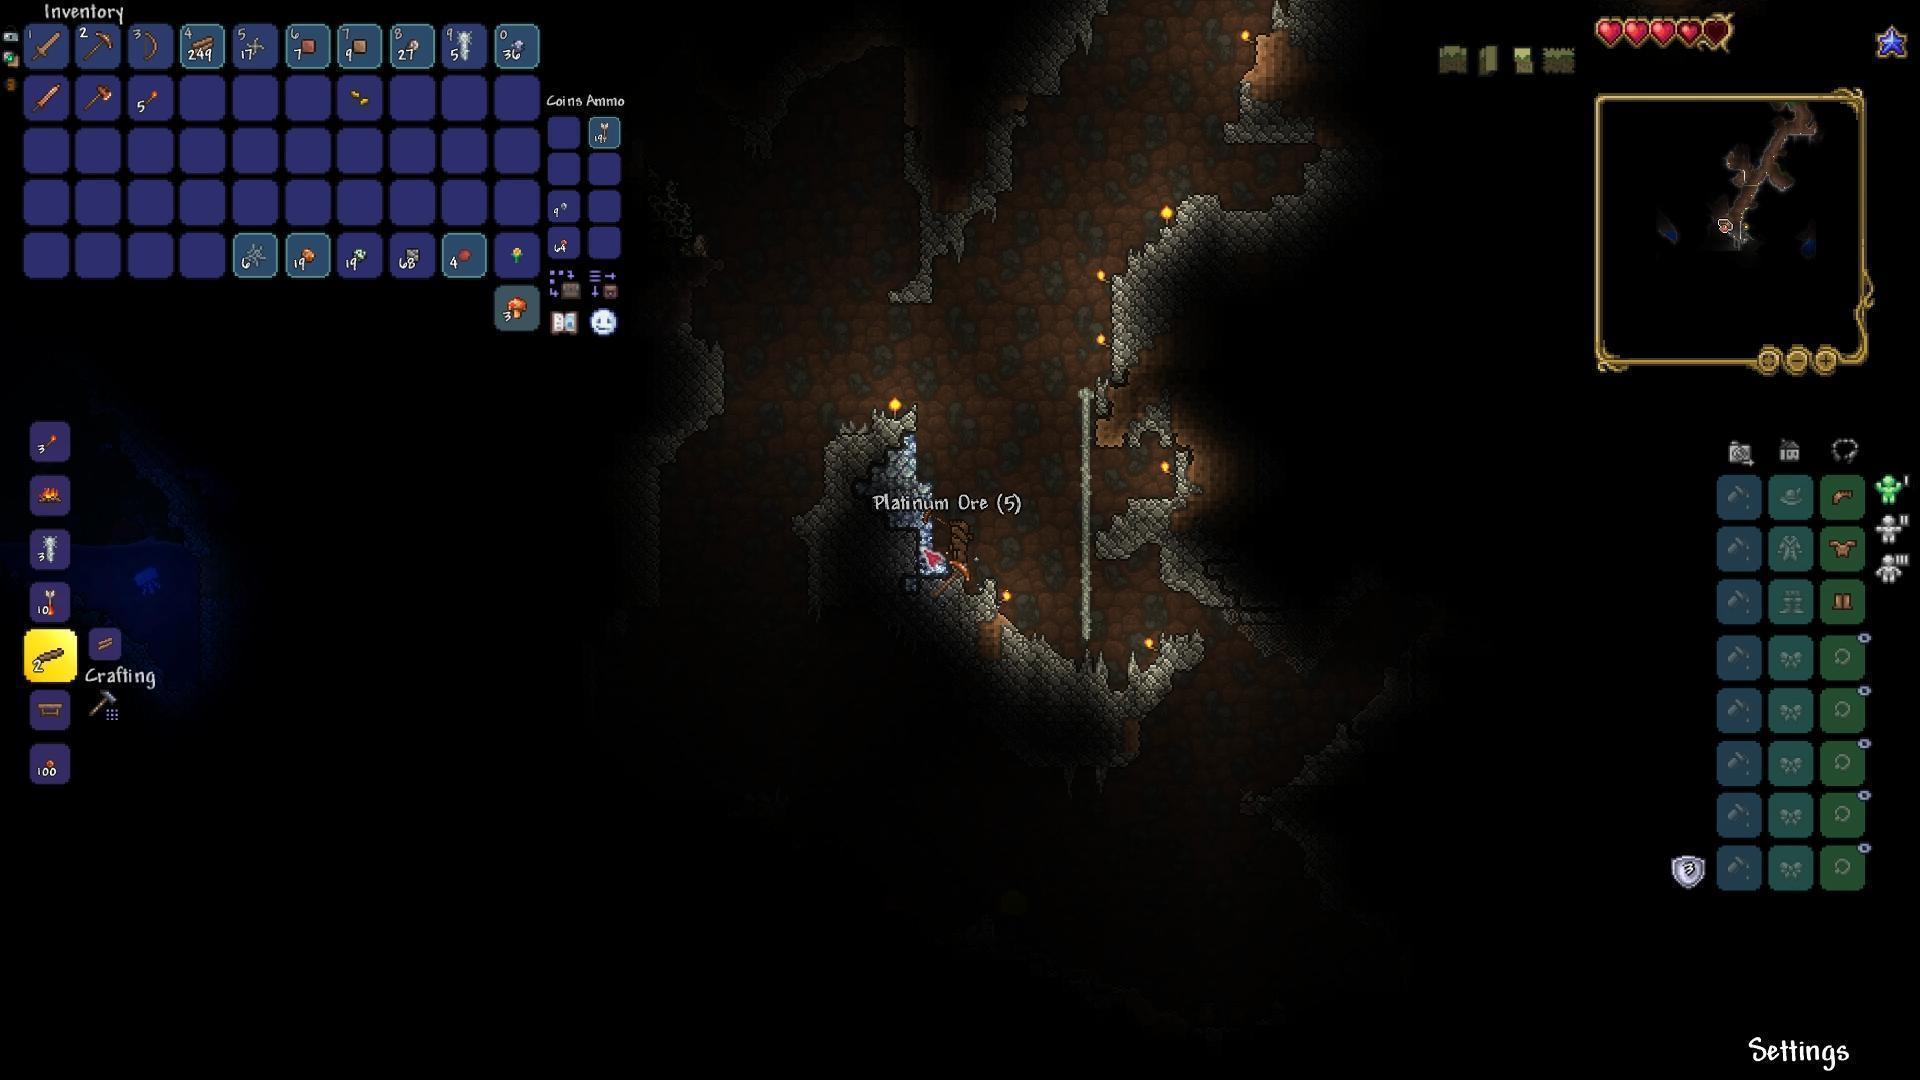arrow: (44, 588, 58, 618)
bow: (141, 29, 158, 66)
breastplate: (1829, 538, 1858, 559)
cobwebI: (244, 240, 269, 268)
gel: (456, 248, 472, 265)
helmet: (1830, 487, 1854, 506)
legs: (1829, 589, 1857, 612)
ore: (298, 241, 319, 264), (348, 243, 372, 261)
pickaxe: (80, 32, 117, 62)
rope: (456, 26, 472, 62), (44, 535, 55, 564)
shuriken: (247, 34, 264, 54)
